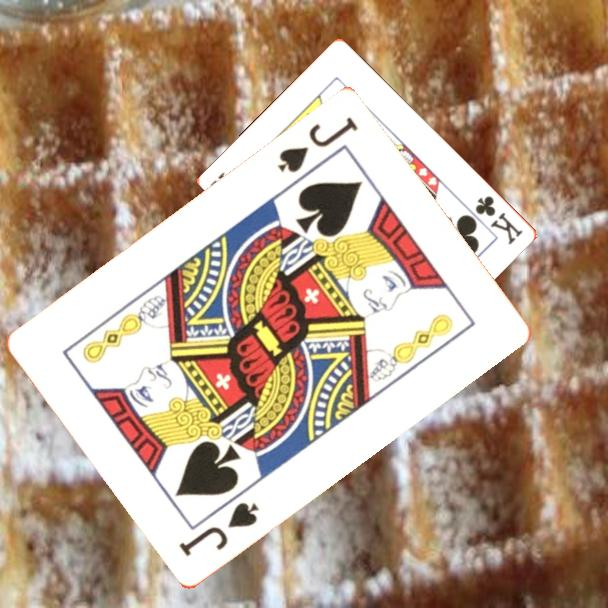c13: (472, 192, 526, 248)
s11: (273, 114, 361, 177), (175, 499, 263, 561)
